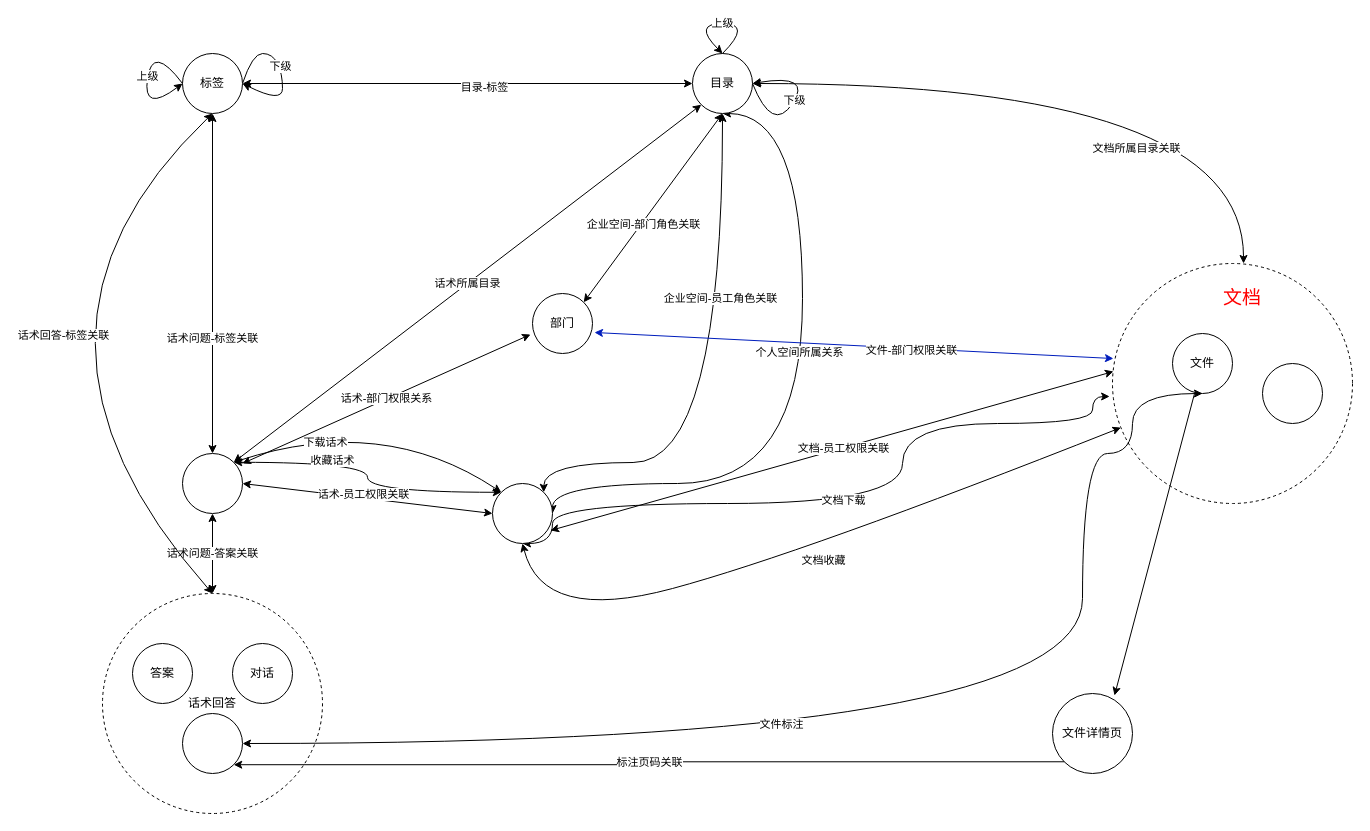
This 1370x831 diagram has some shape labels left out. Here are the shapes that lost their labels. From the top down, the centre of each, then its label:
[1292,393]: 链接
[212,483]: 话术问题
[522,513]: 员工
[212,743]: 标注
